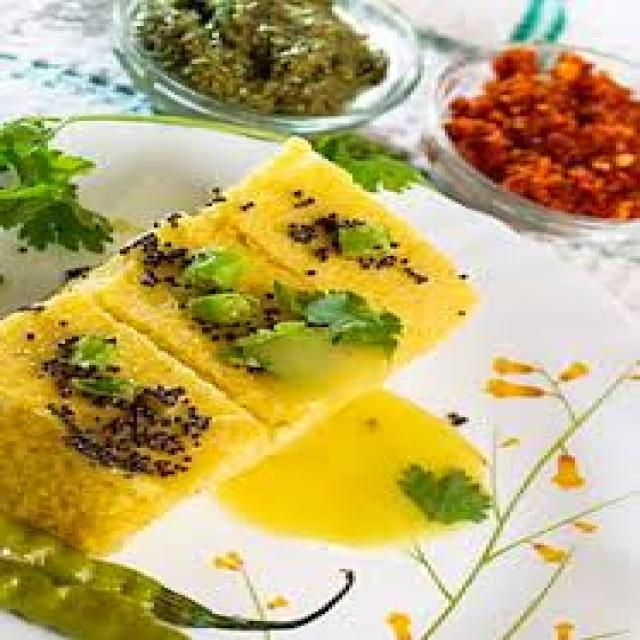DHOKLA: (0, 135, 491, 557)
